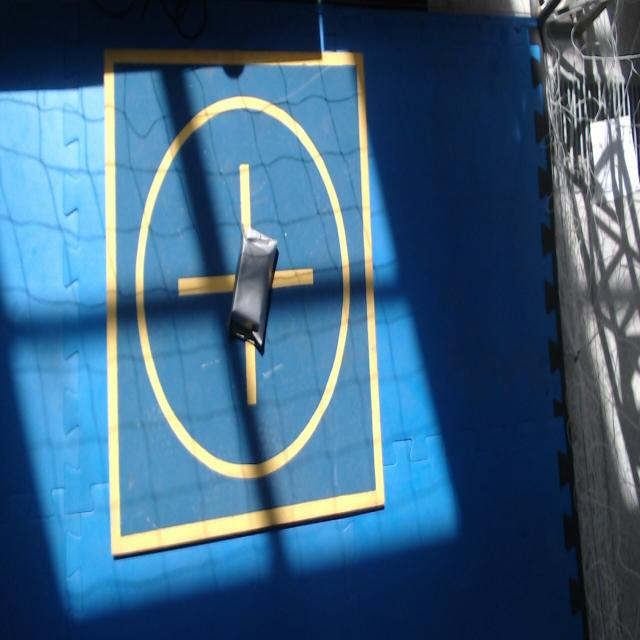direita: (230, 226, 277, 353)
